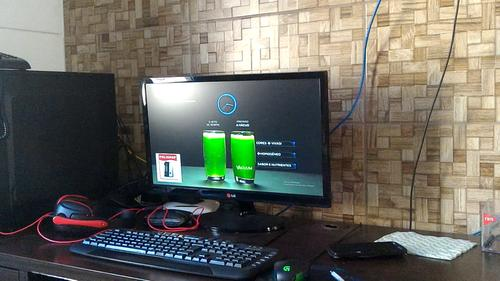Polishop #1: (155, 150, 181, 182)
